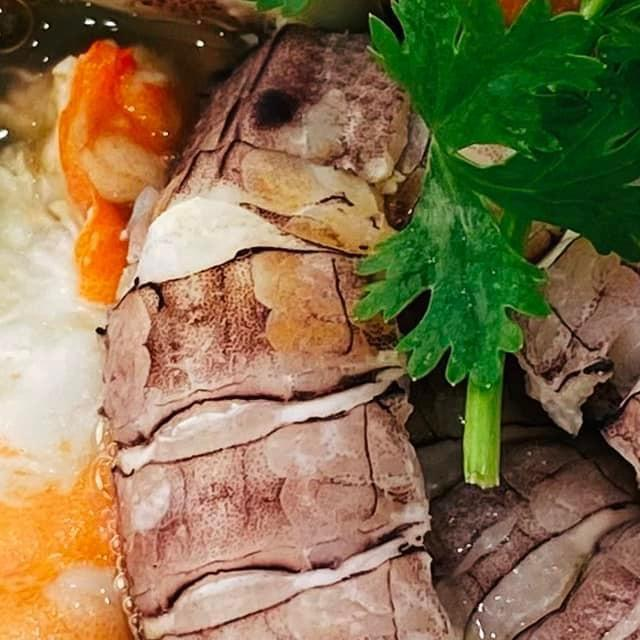bun hai san: (0, 0, 640, 640)
tom: (0, 22, 224, 640)
tom tit: (78, 3, 640, 640), (405, 90, 640, 640), (336, 315, 640, 640)
